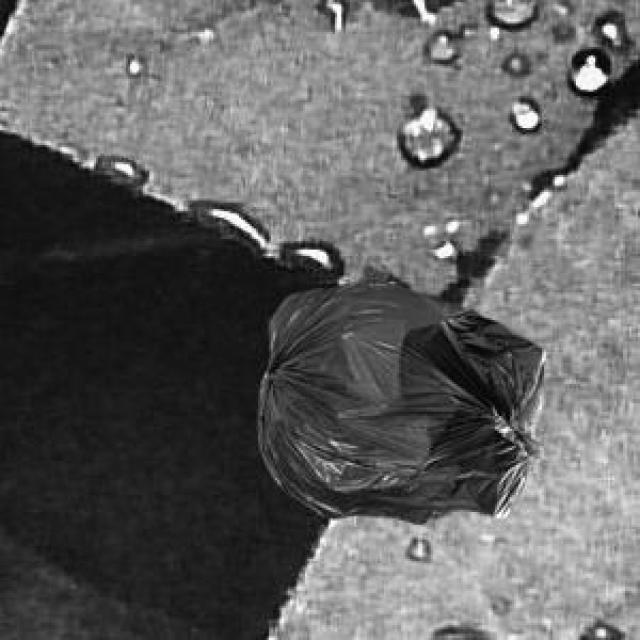miscellaneous trash: (254, 277, 540, 521)
